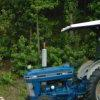Tractor: (18, 49, 97, 100)
